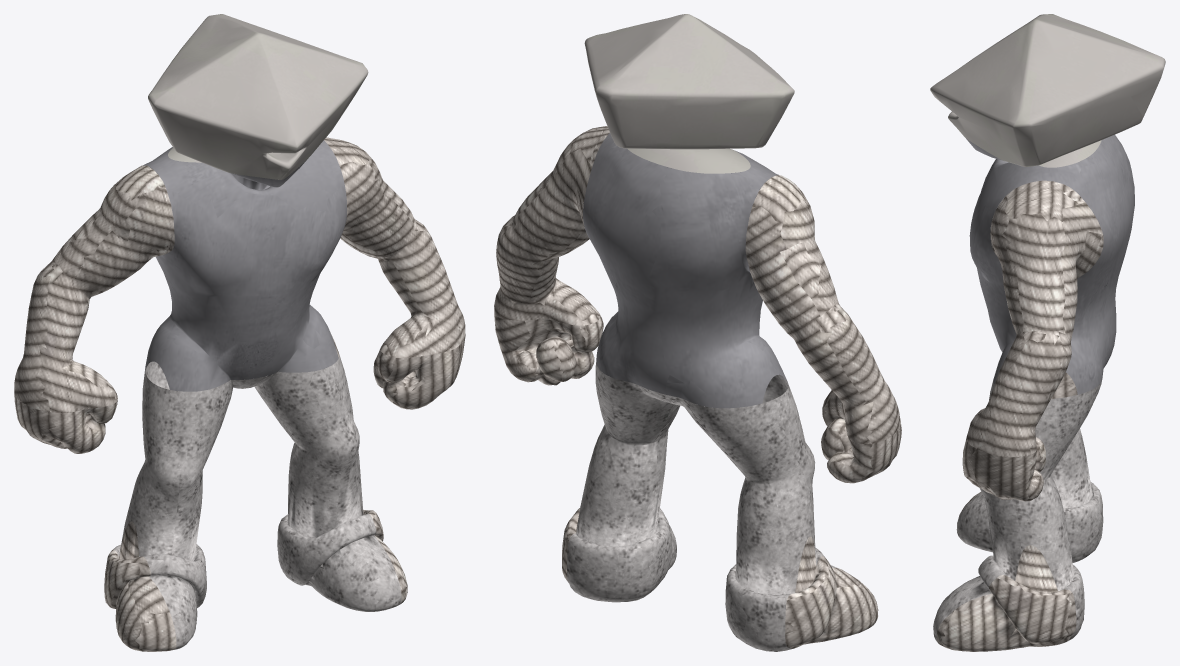
The model's file is 16-spade-arch--stylized_humanoid_3d_model.glb.
The picture shows the model from 3 angles, left to right: view 1: azimuth 30°, elevation 25°; view 2: azimuth 150°, elevation 25°; view 3: azimuth 270°, elevation 25°; orthographic projection. The views are drawn at different scales.
Visible parts, largest first — view 1: arms_mesh, feet_mesh, body_mesh, head_mesh; view 2: arms_mesh, body_mesh, feet_mesh, head_mesh; view 3: arms_mesh, head_mesh, feet_mesh, body_mesh.
Part boxes in pixels (x1,y1,x2,y2): arms_mesh: (14,137,465,651); feet_mesh: (113,354,401,649); body_mesh: (143,140,346,391); head_mesh: (148,14,368,179); arms_mesh: (494,126,901,648); body_mesh: (583,133,788,408); feet_mesh: (567,362,838,651); head_mesh: (584,14,794,173); arms_mesh: (936,180,1103,651); head_mesh: (930,14,1165,167); feet_mesh: (933,380,1103,642); body_mesh: (966,134,1134,394).
Size of the model in its own units: 2.28 by 3 by 1.11.
4 materials, 4 textured.
